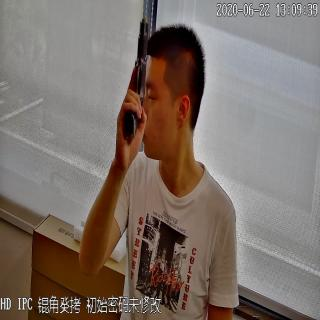gun: (121, 15, 149, 147)
